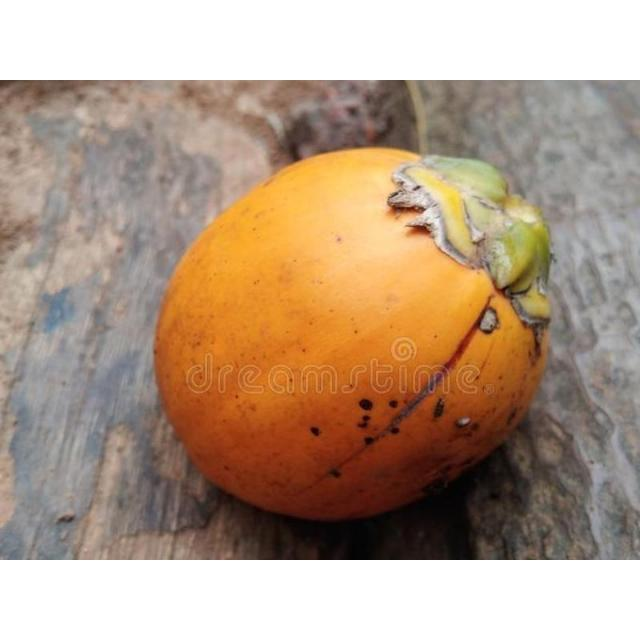good: (152, 147, 553, 525)
